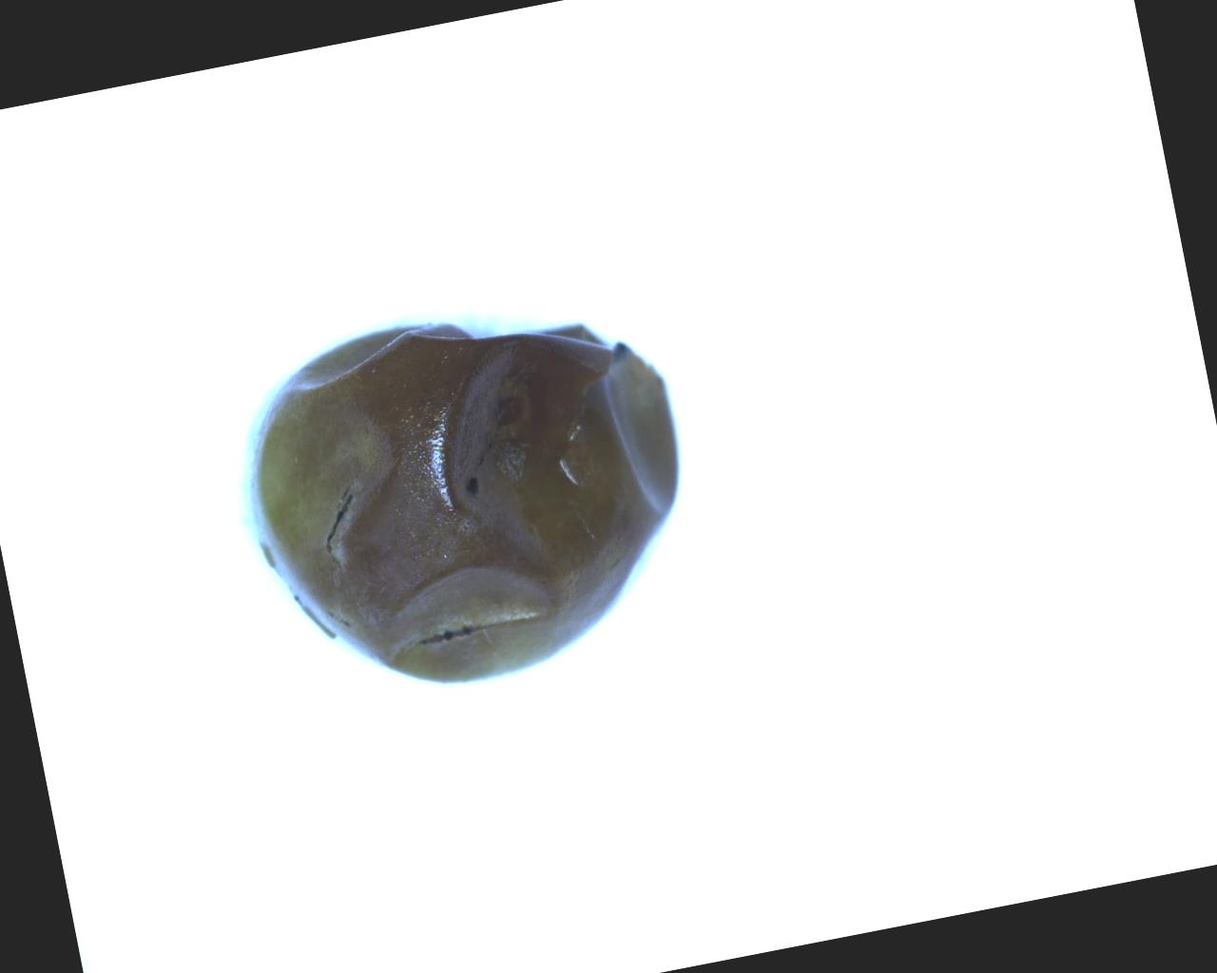Grape Rotten: (217, 274, 717, 718)
